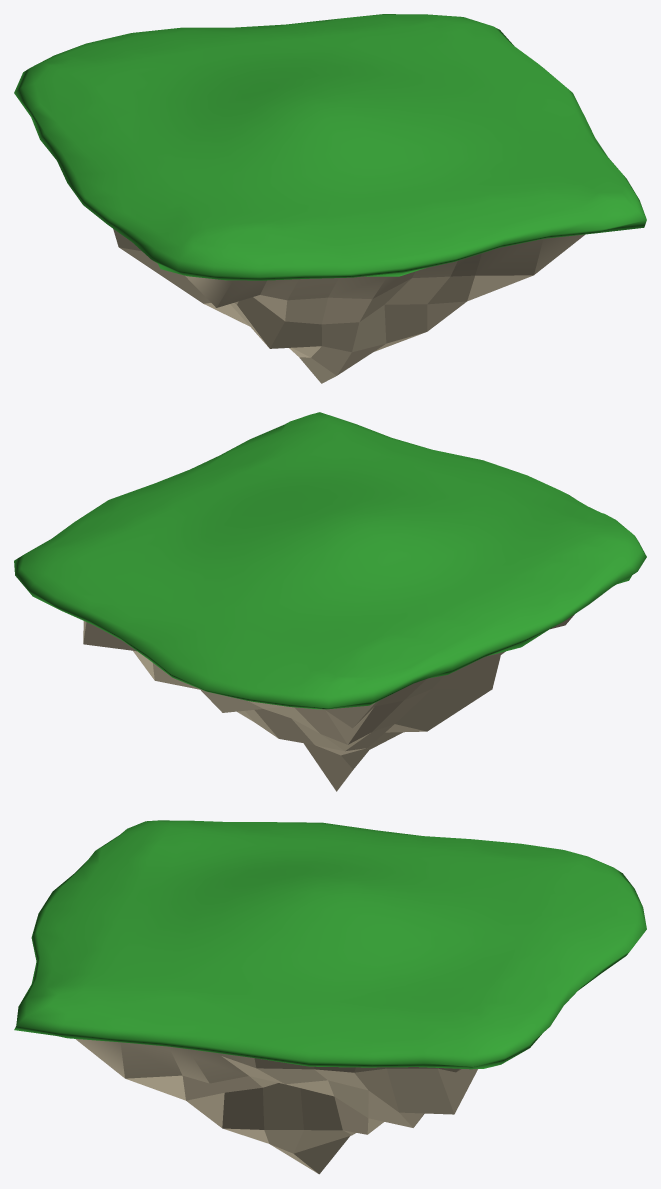
The model's file is SM_Island2.fbx.
The picture shows the model from 3 angles, top to bottom: view 1: azimuth 30°, elevation 25°; view 2: azimuth 150°, elevation 25°; view 3: azimuth 270°, elevation 25°; orthographic projection. The views are drawn at different scales.
Visible parts, largest first — view 1: SM_Island2; view 2: SM_Island2; view 3: SM_Island2.
Part boxes in pixels (left/top/right/bottom): SM_Island2: left=14, top=14, right=646, bottom=383; SM_Island2: left=14, top=412, right=646, bottom=791; SM_Island2: left=14, top=820, right=646, bottom=1174.
Bounding box in the file's own units: 40.95 × 22.22 × 45.68.
